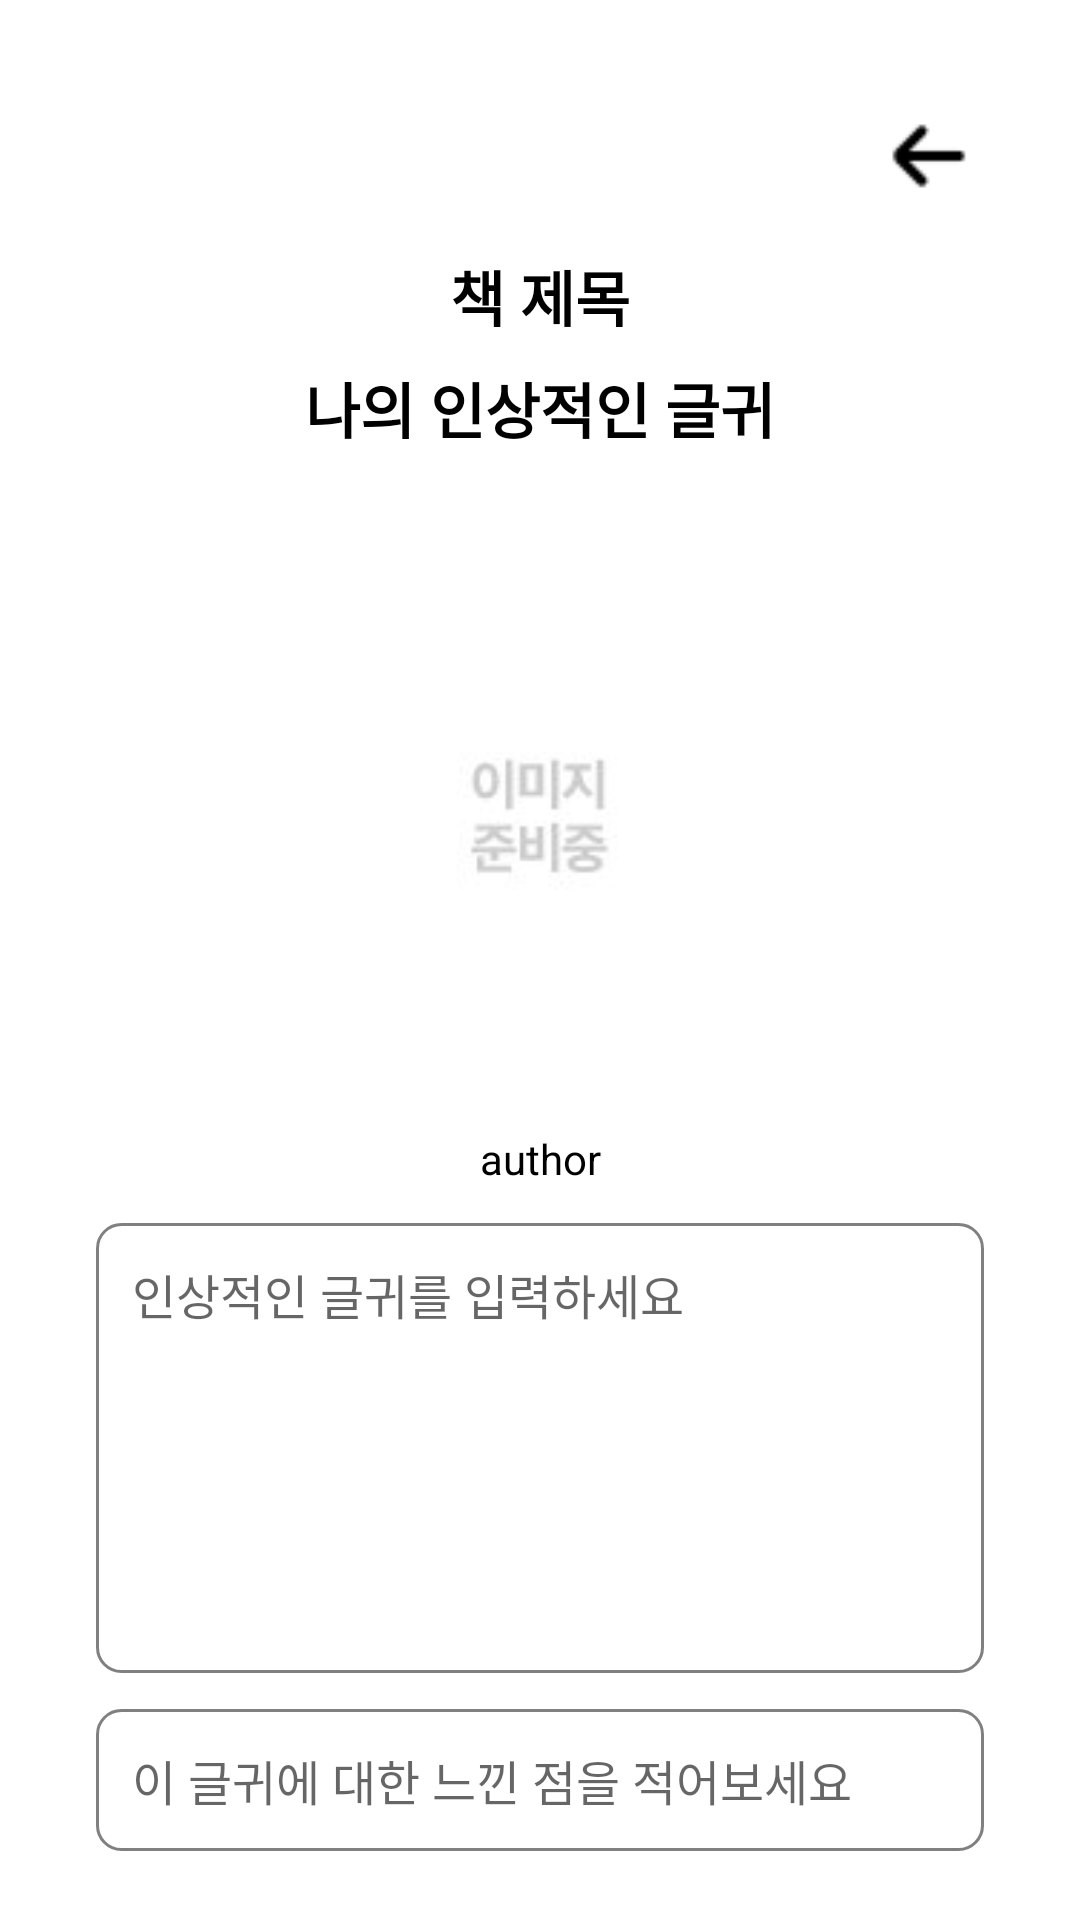

Named icons in this screenshot (1080 × 1920) and their bounding boxes, [x1,y1,x2,y2]:
뒤로가기 버튼: [892,124,966,188]
